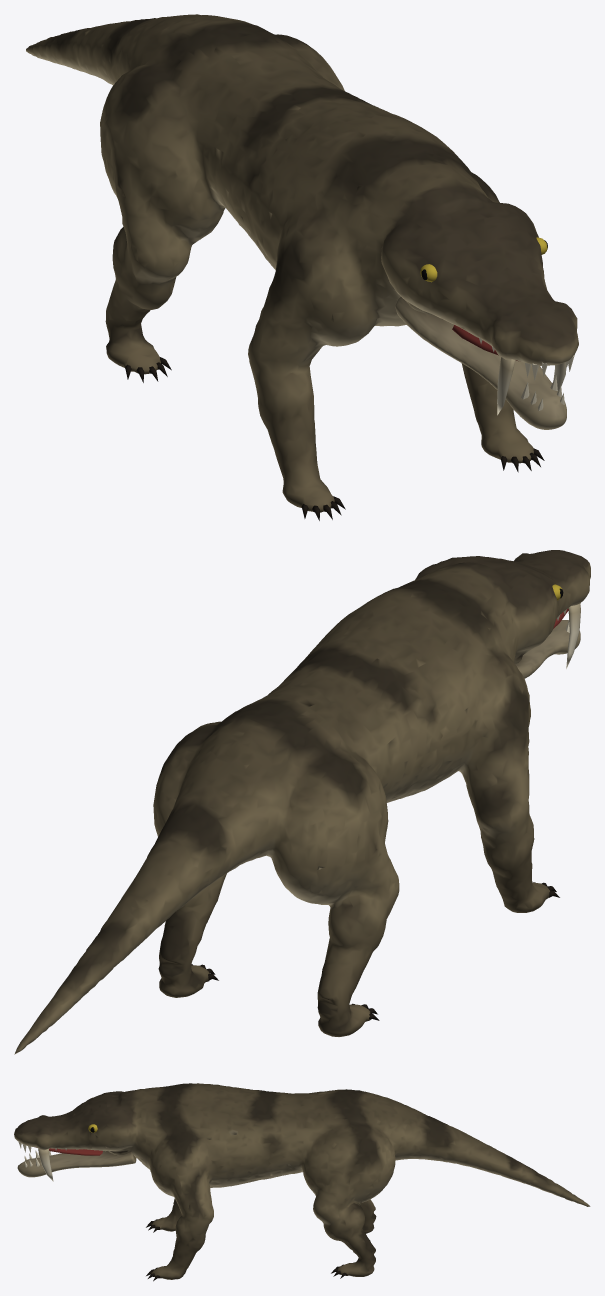
Rendered from InostranceviaLatifrons.fbx.
The picture shows the model from 3 angles, top to bottom: view 1: azimuth 30°, elevation 25°; view 2: azimuth 150°, elevation 25°; view 3: azimuth 270°, elevation 25°; orthographic projection. The views are drawn at different scales.
Parts seen in each view (by area): view 1: InostranceviaLatifrons; view 2: InostranceviaLatifrons; view 3: InostranceviaLatifrons.
Boxes of the visible parts, box(x1,y1,x2,y2) form: InostranceviaLatifrons: box(26, 14, 578, 520); InostranceviaLatifrons: box(14, 550, 590, 1054); InostranceviaLatifrons: box(14, 1083, 590, 1281).
Size of the model in its own units: 0.5812 by 0.7262 by 2.29.
